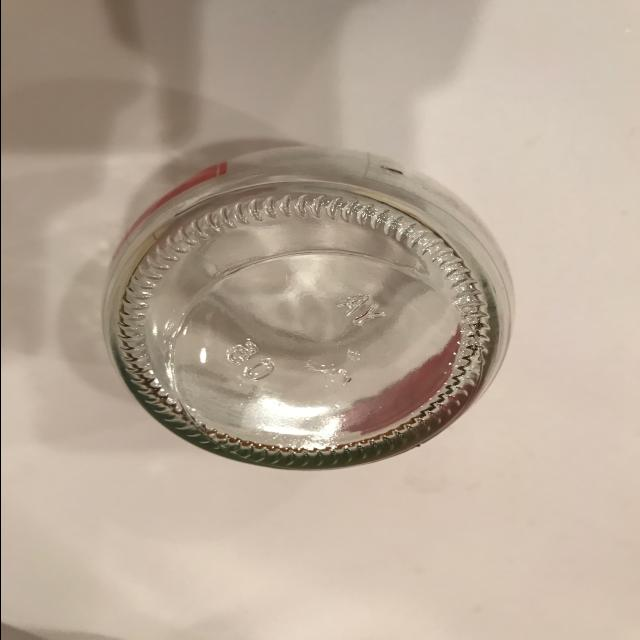glass: (95, 140, 525, 496)
